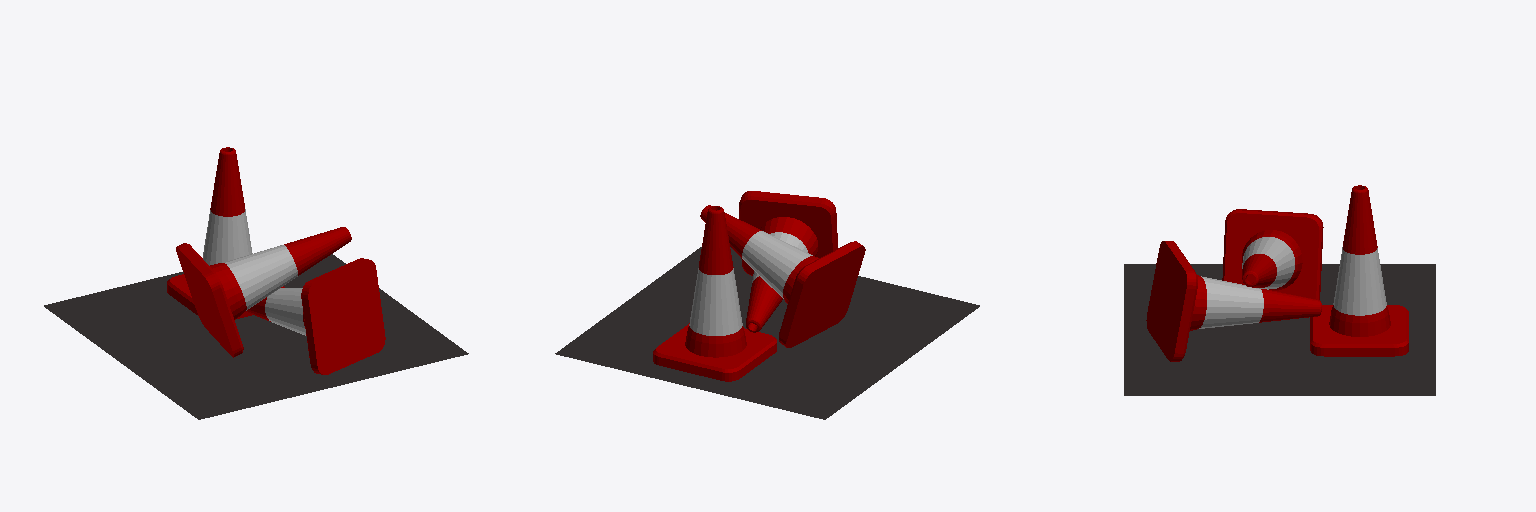
The model's file is warncones.obj.
3 renders of one model, left to right at view 1: azimuth 30°, elevation 25°; view 2: azimuth 150°, elevation 25°; view 3: azimuth 270°, elevation 25°, orthographic.
Bounding box in the file's own units: 25.19 × 13.15 × 25.19.